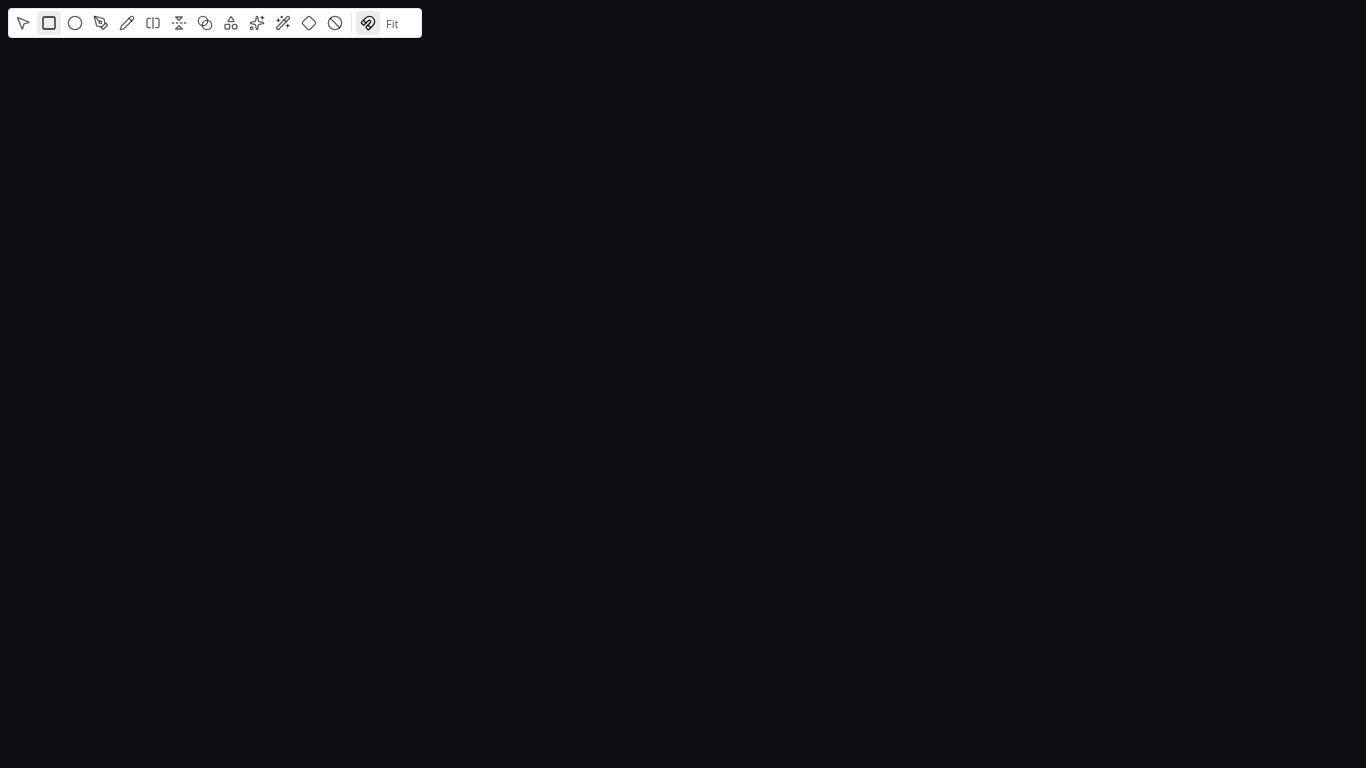
Test case: drawing tools › refuses a click without a drag
The width and height of the screenshot is (1366, 768).
Press the mouse on the icon named "Mask canvas" at (683, 384), box [0, 0, 1365, 767]
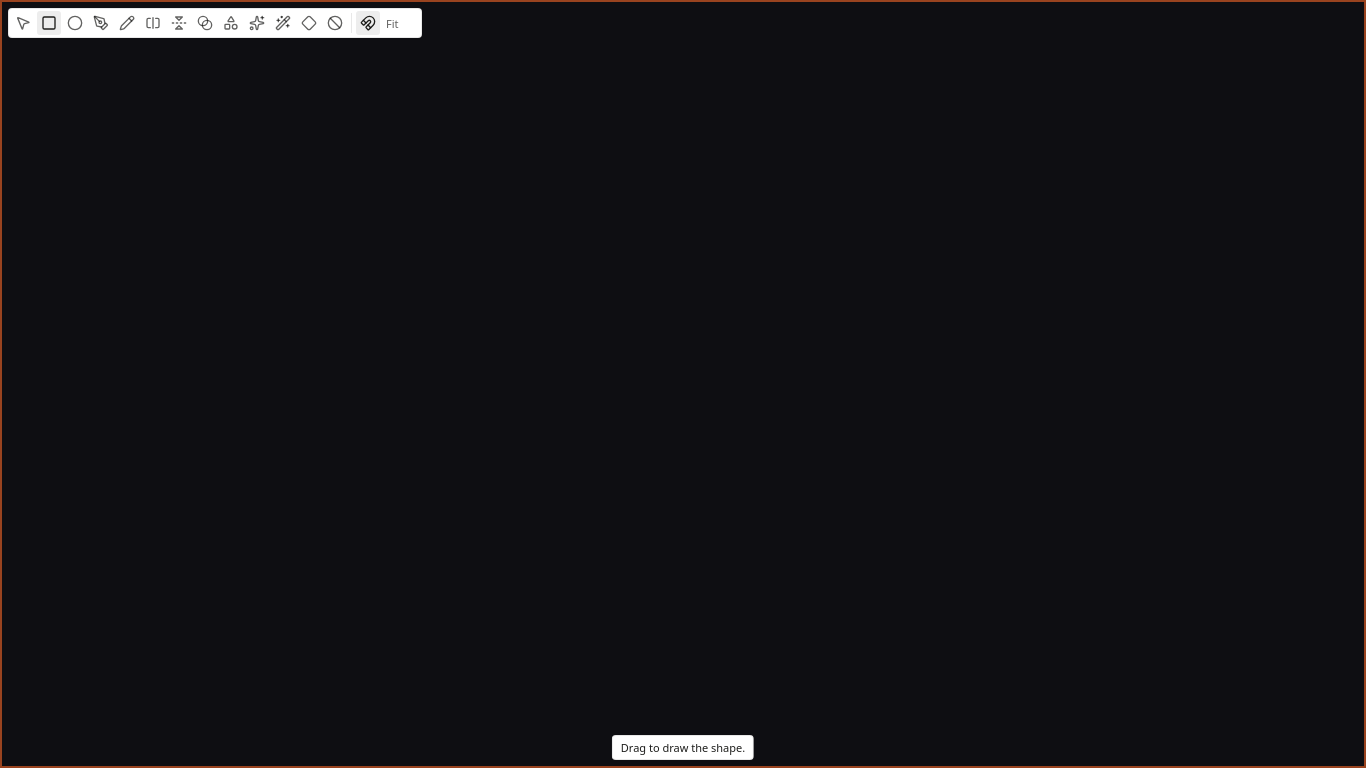
Now the text "Drag to draw the shape." is shown, box [612, 735, 754, 760]
